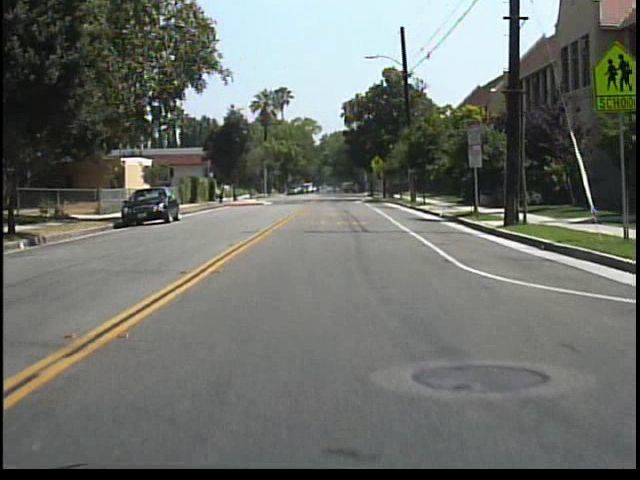person: (327, 180, 342, 198)
